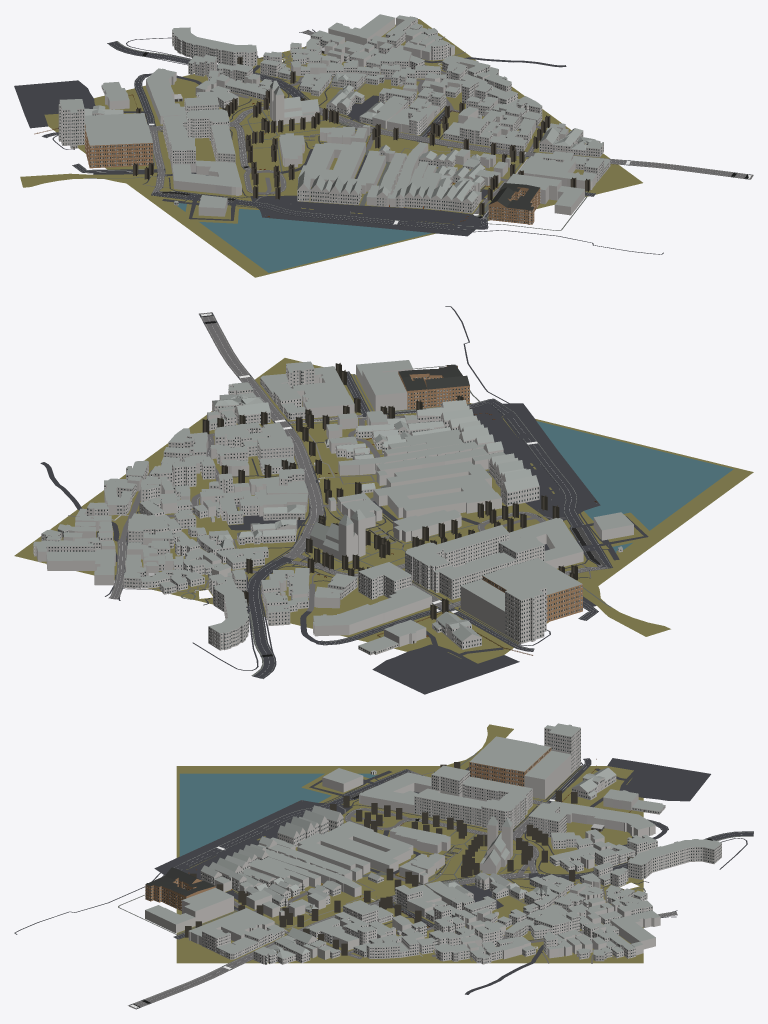
Rendered from bryggen-preview.glb.
3 renders of one model, top to bottom at view 1: azimuth 30°, elevation 25°; view 2: azimuth 150°, elevation 25°; view 3: azimuth 270°, elevation 25°, orthographic. The views are drawn at different scales.
Visible parts, largest first — view 1: Bryggen — original geometry, averaged texture colors; view 2: Bryggen — original geometry, averaged texture colors; view 3: Bryggen — original geometry, averaged texture colors.
Boxes of the visible parts, bbox=[...] form: Bryggen — original geometry, averaged texture colors: bbox=[14, 14, 753, 277]; Bryggen — original geometry, averaged texture colors: bbox=[14, 306, 753, 694]; Bryggen — original geometry, averaged texture colors: bbox=[14, 723, 753, 1009].
Bounding box in the file's own units: 520 × 36 × 570.
